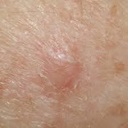Melanoma: (45, 38, 77, 70)
